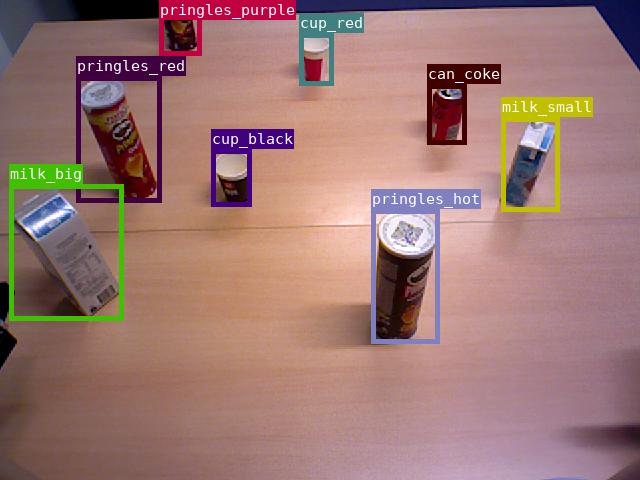can_coke: (427, 84, 466, 144)
cup_black: (211, 149, 251, 206)
cup_red: (299, 33, 333, 85)
milk_big: (9, 184, 123, 320)
milk_small: (501, 117, 559, 211)
pringles_hot: (371, 209, 439, 343)
pringles_purple: (159, 0, 201, 55)
pringles_red: (76, 76, 161, 202)
